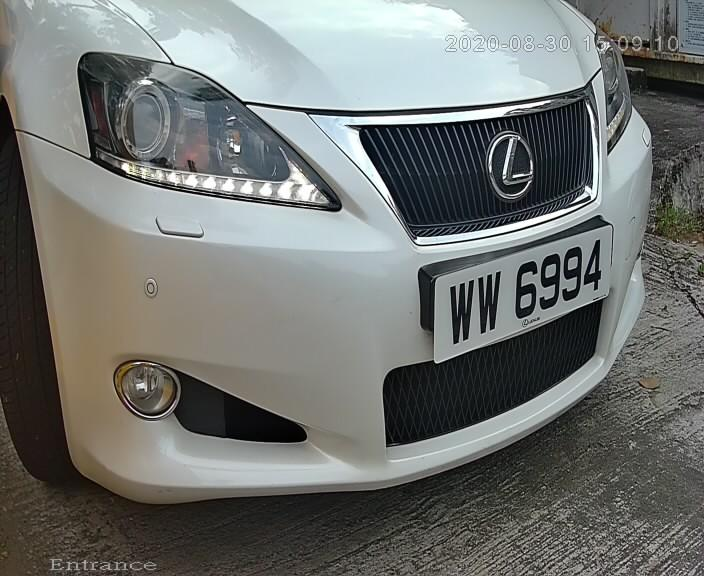License Plate: (412, 201, 626, 368)
